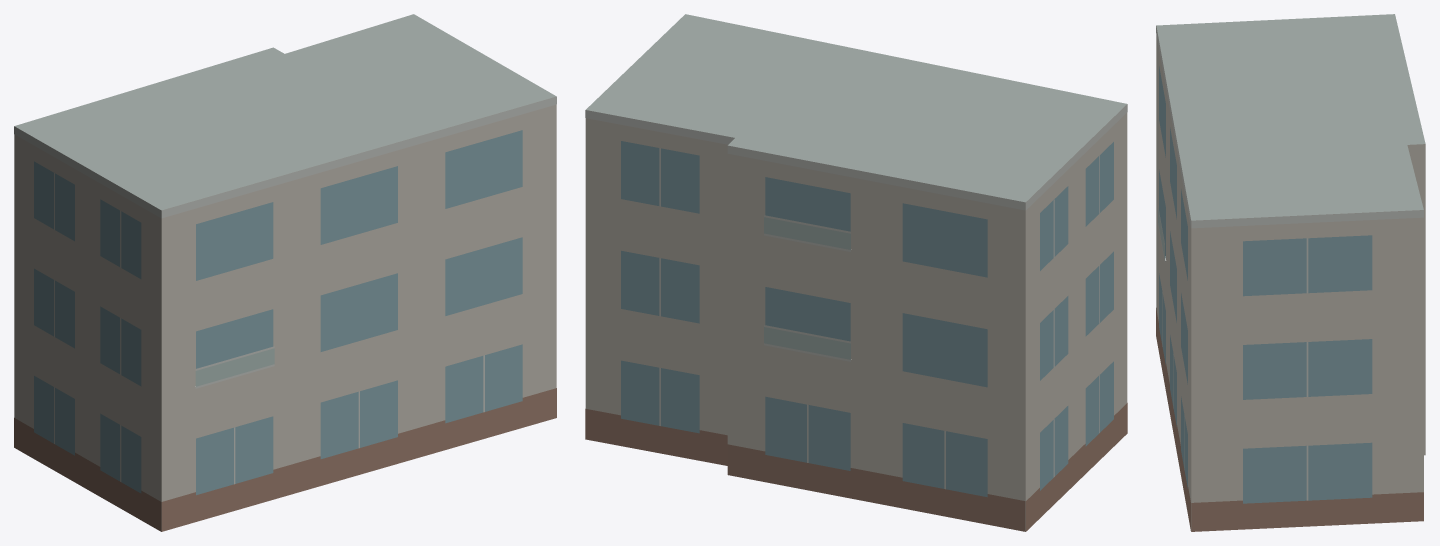
The model's file is survey-upis-32725688.glb.
The picture shows the model from 3 angles, left to right: view 1: azimuth 30°, elevation 25°; view 2: azimuth 150°, elevation 25°; view 3: azimuth 270°, elevation 25°; orthographic projection. The views are drawn at different scales.
Parts seen in each view (by area): view 1: survey-upis-32725688.tmp; view 2: survey-upis-32725688.tmp; view 3: survey-upis-32725688.tmp.
Part boxes in pixels (x1,y1,x2,y2): survey-upis-32725688.tmp: [14, 14, 556, 531]; survey-upis-32725688.tmp: [585, 14, 1127, 531]; survey-upis-32725688.tmp: [1156, 14, 1425, 531].
Size of the model in its own units: 13.97 by 9.8 by 7.7.
